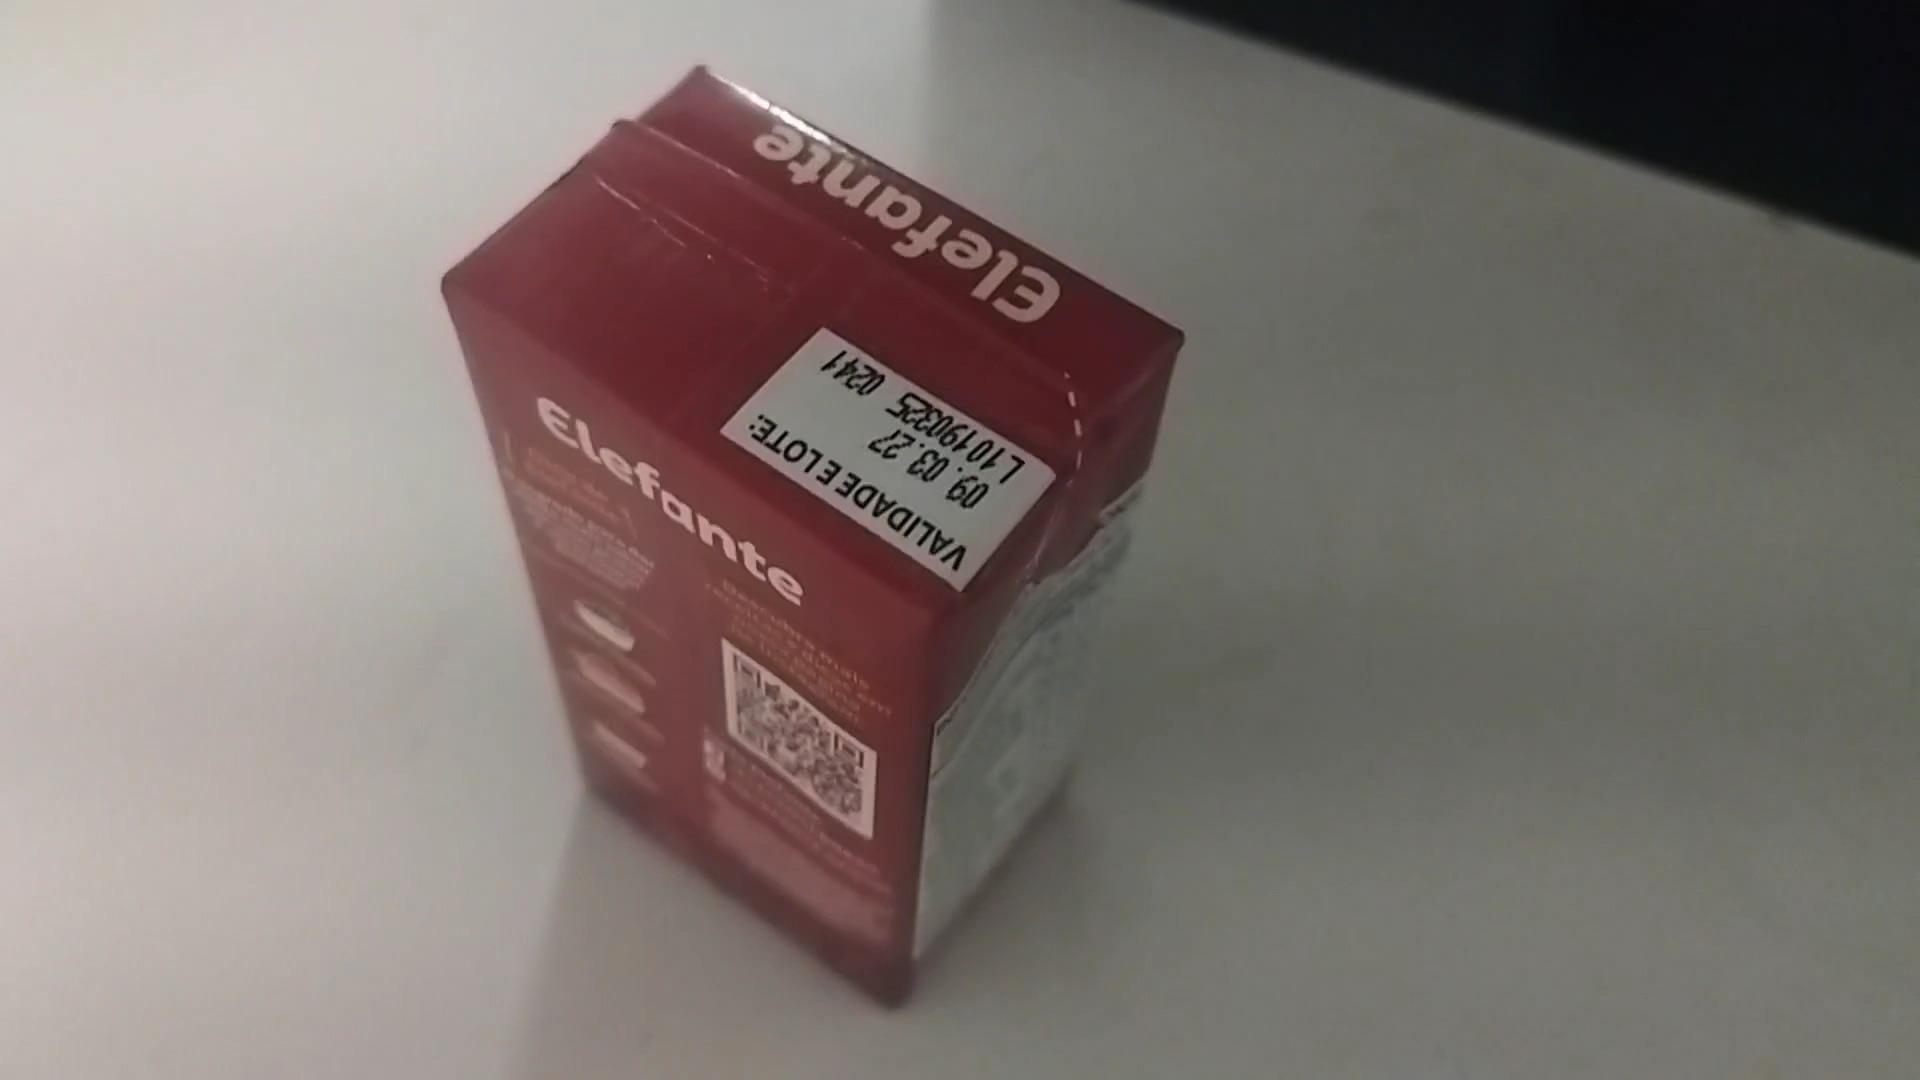tomate: (434, 55, 1184, 997)
